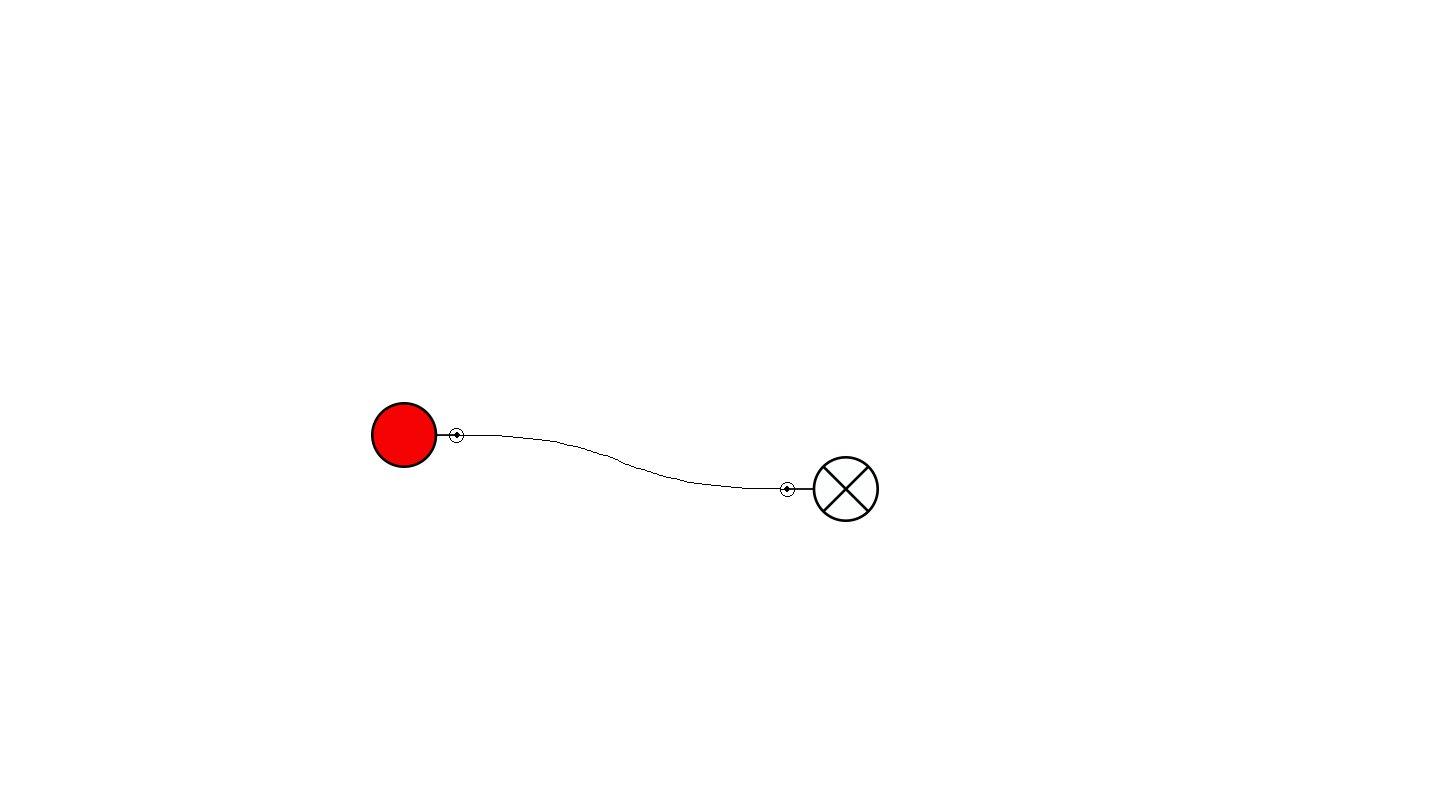bulb: (780, 456, 879, 522)
switch_False: (371, 402, 464, 468)
